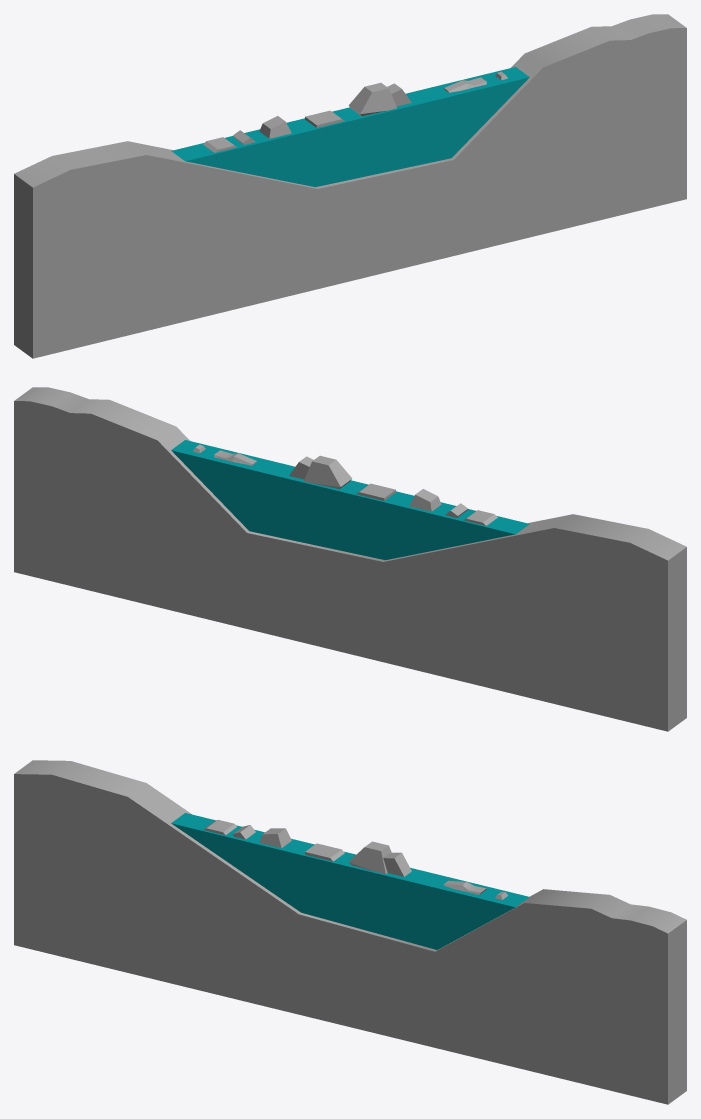
The model's file is EnvModule_02.fbx.
3 views of the same model, one above another, from view 1: azimuth 30°, elevation 25°; view 2: azimuth 150°, elevation 25°; view 3: azimuth 330°, elevation 25° (orthographic).
Visible parts, largest first — view 1: pCube3, pCube4, pCube7; view 2: pCube3, pCube4, pCube7; view 3: pCube3, pCube4, pCube7.
Boxes of the visible parts, bbox=[...] form: pCube3: bbox=[14, 14, 686, 358]; pCube4: bbox=[171, 67, 529, 187]; pCube7: bbox=[348, 82, 396, 116]; pCube3: bbox=[14, 387, 686, 731]; pCube4: bbox=[171, 440, 529, 560]; pCube7: bbox=[304, 455, 352, 489]; pCube3: bbox=[14, 760, 686, 1104]; pCube4: bbox=[171, 813, 529, 949]; pCube7: bbox=[349, 841, 391, 874].
Size of the model in its own units: 20 by 5.25 by 1.
